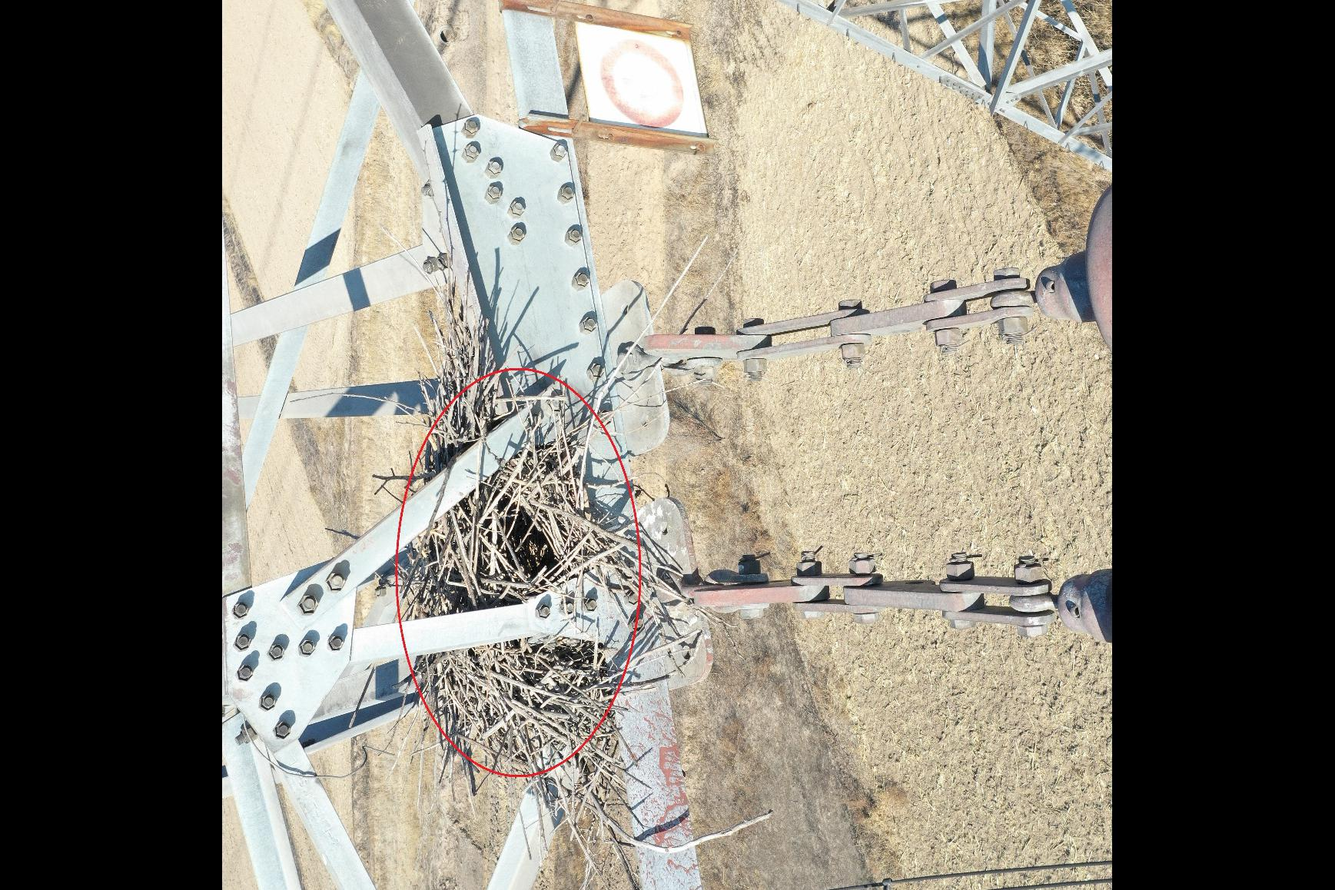nest: (384, 298, 640, 852)
